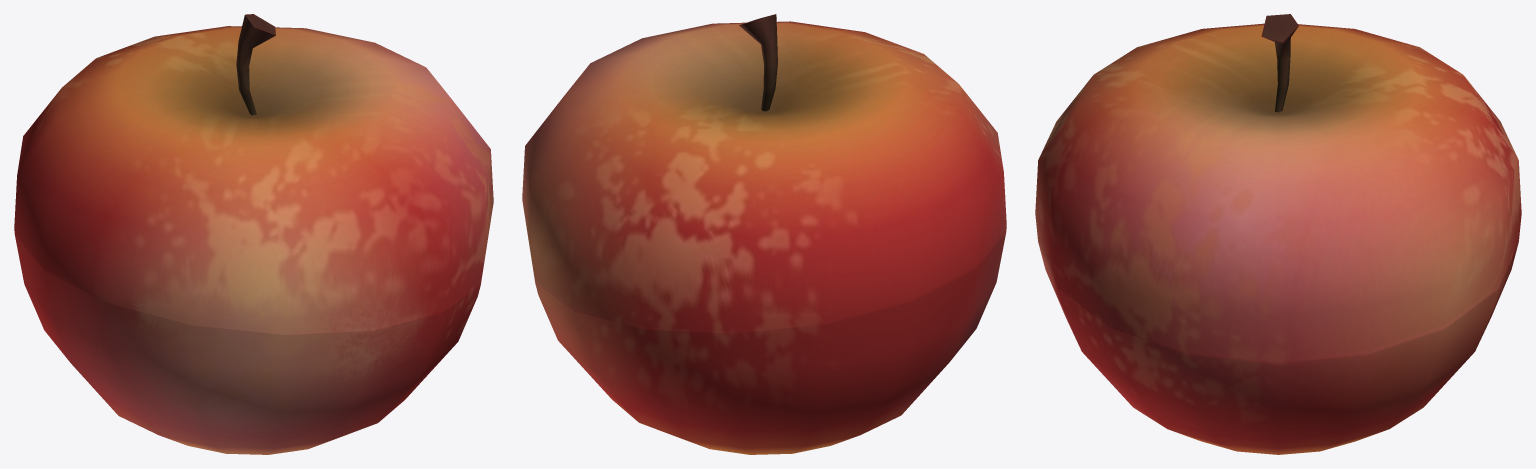
Rendered from Maca.FBX.
3 renders of one model, left to right at view 1: azimuth 30°, elevation 25°; view 2: azimuth 150°, elevation 25°; view 3: azimuth 270°, elevation 25°, orthographic.
Parts seen in each view (by area): view 1: Maca_Up, MACA_DOWN; view 2: Maca_Up, MACA_DOWN; view 3: Maca_Up, MACA_DOWN.
Boxes of the visible parts, x1,y1,x2,y2 form: Maca_Up: [14, 14, 493, 334]; MACA_DOWN: [15, 236, 480, 454]; Maca_Up: [522, 14, 1006, 333]; MACA_DOWN: [535, 233, 1005, 454]; Maca_Up: [1035, 14, 1521, 363]; MACA_DOWN: [1038, 243, 1518, 454].
Size of the model in its own units: 21.94 by 20.11 by 21.94.
1 material, 1 textured.
